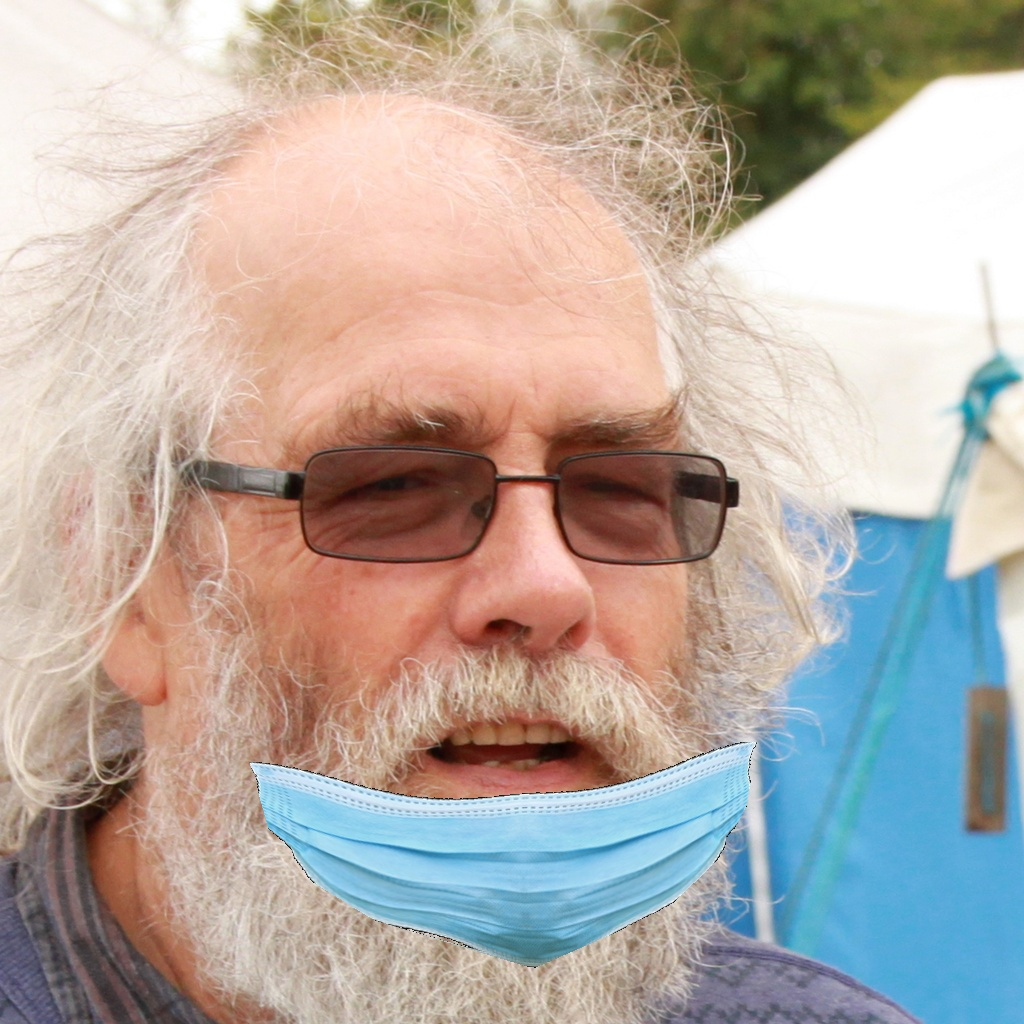mascarilla_mal_puesta: (129, 358, 804, 985)
